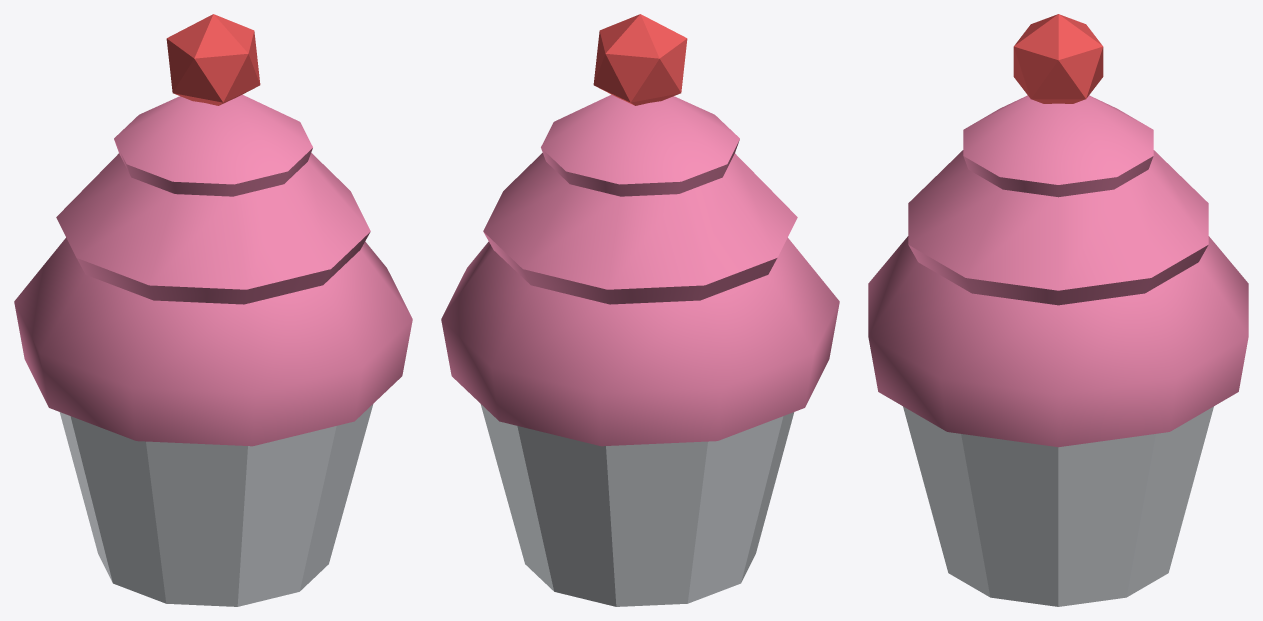
The model's file is cupcake.glb.
The picture shows the model from 3 angles, left to right: view 1: azimuth 30°, elevation 25°; view 2: azimuth 150°, elevation 25°; view 3: azimuth 270°, elevation 25°; orthographic projection.
Parts seen in each view (by area): view 1: cupcake; view 2: cupcake; view 3: cupcake.
Part boxes in pixels (x1,y1,x2,y2): cupcake: (14,14,412,606); cupcake: (441,14,839,606); cupcake: (868,14,1248,606).
Size of the model in its own units: 0.076 by 0.114 by 0.0723.
